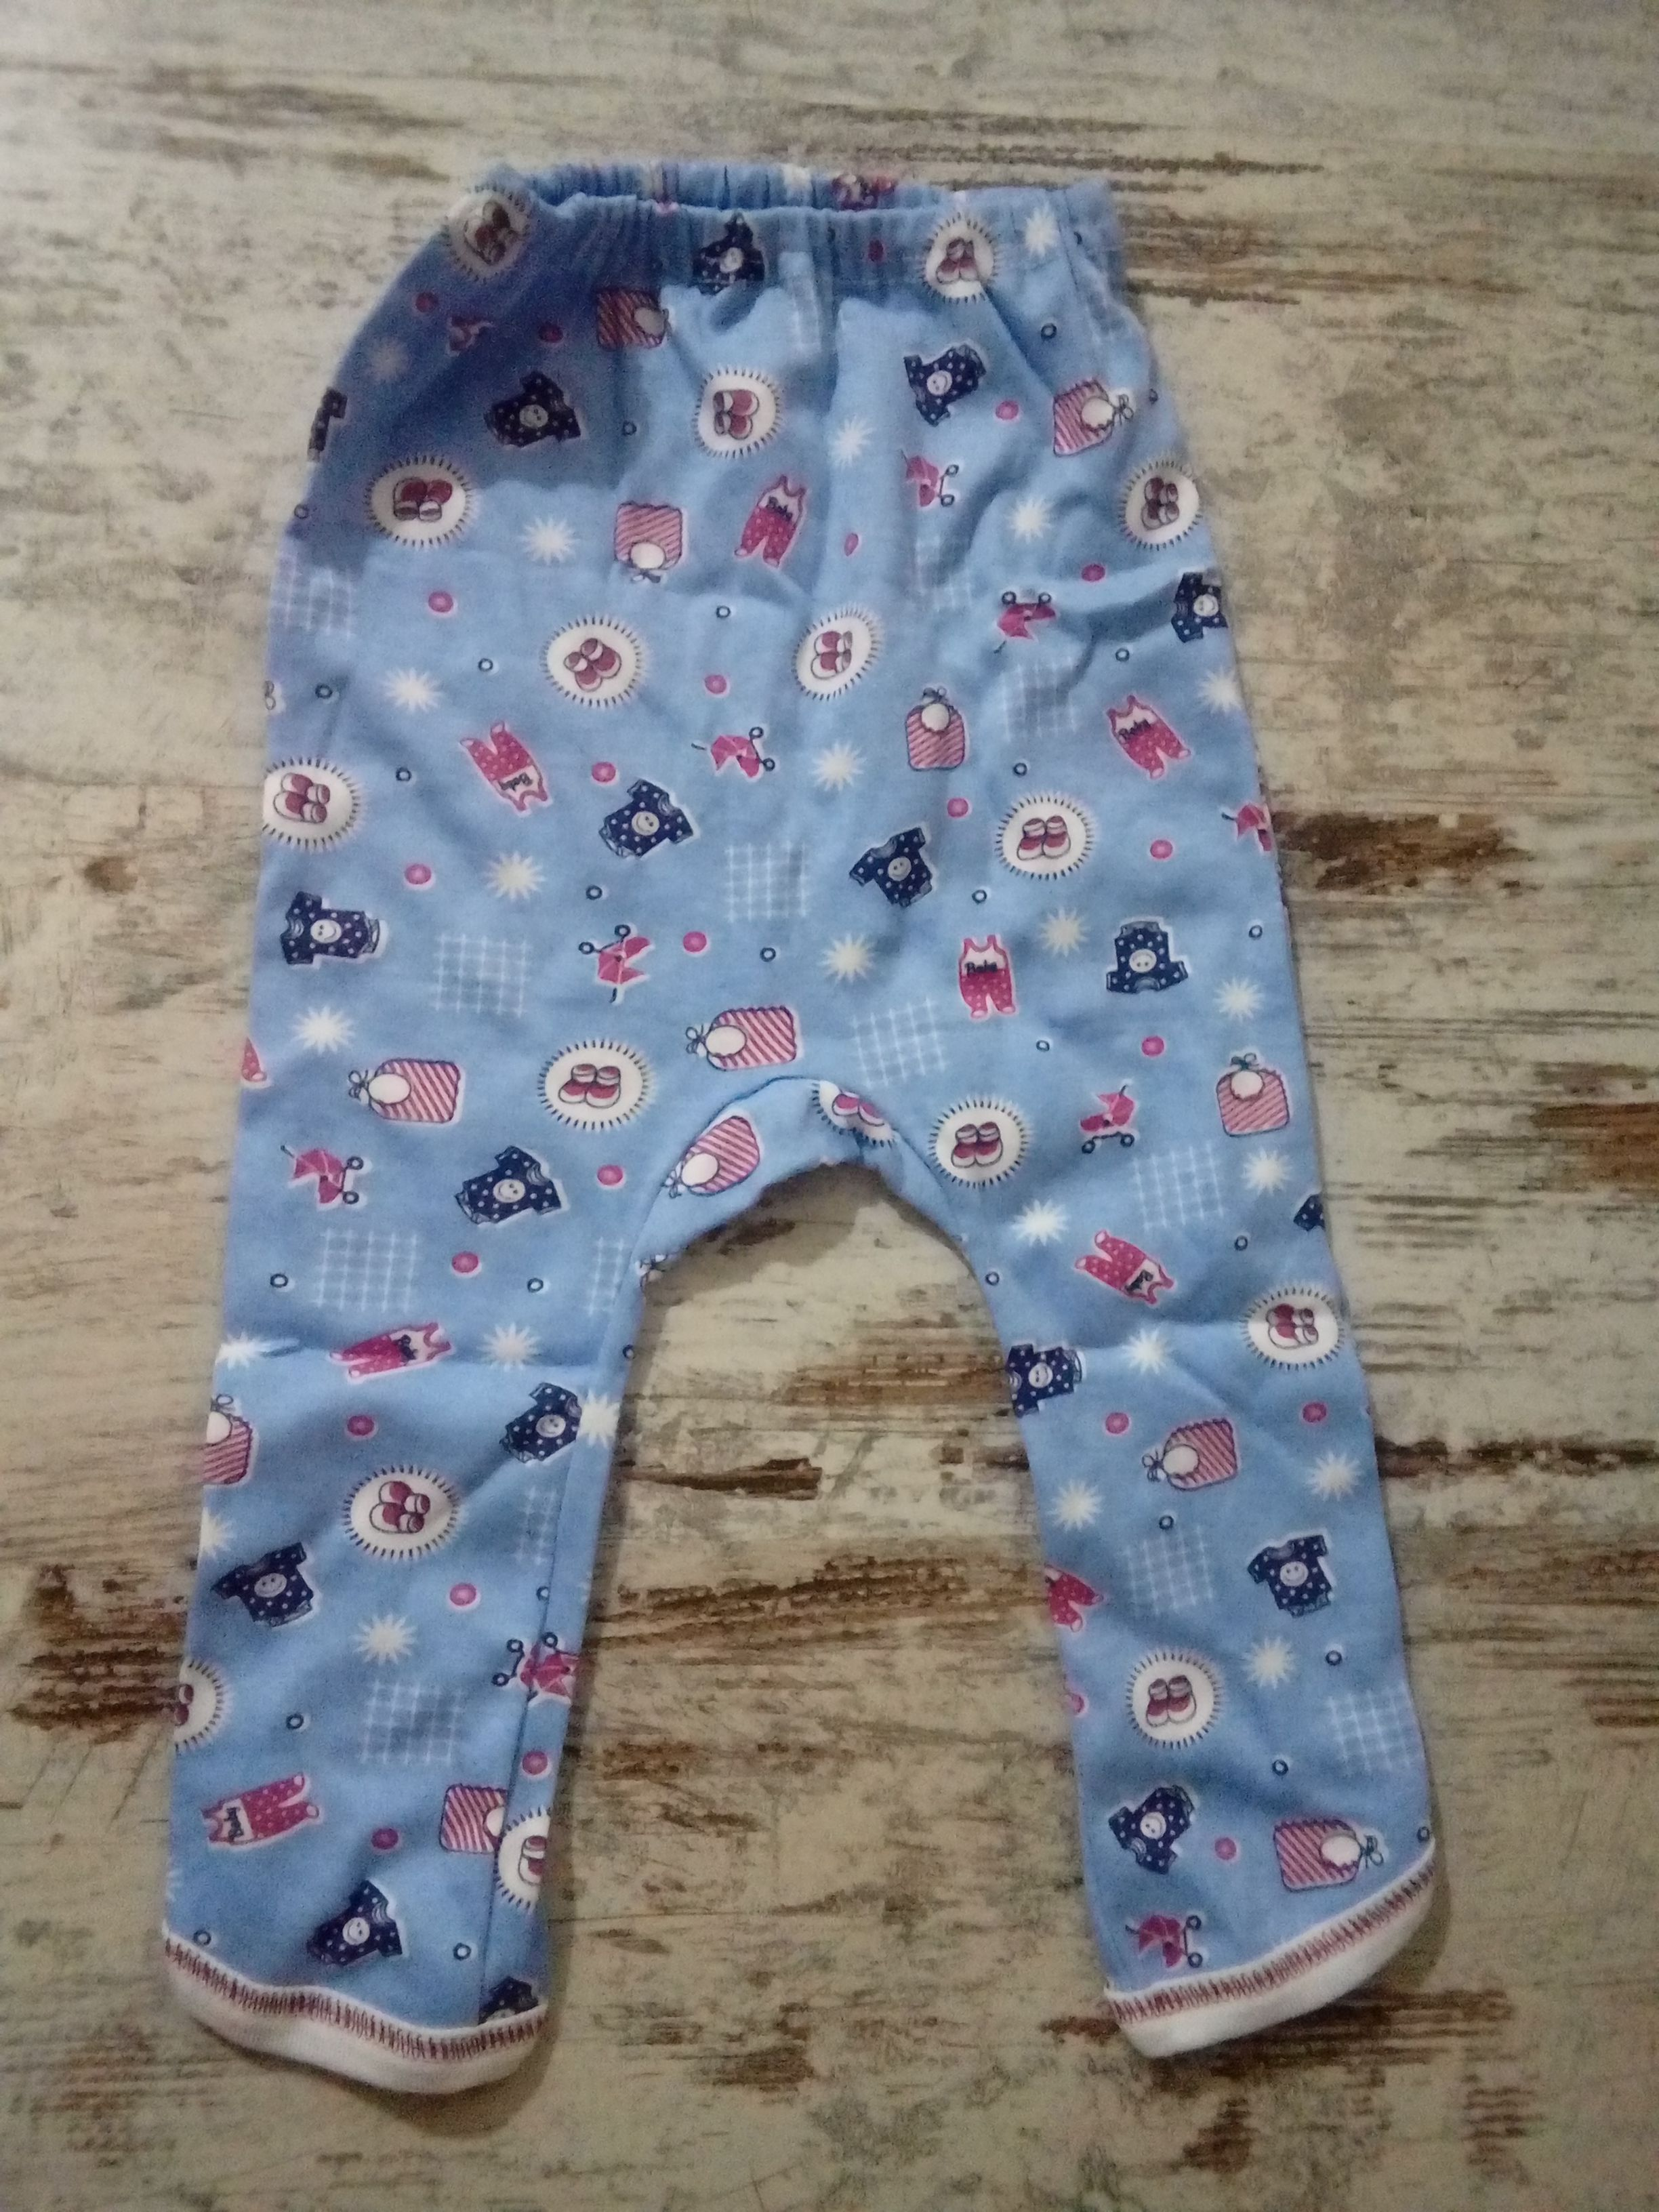clothes: (155, 150, 1438, 2081)
